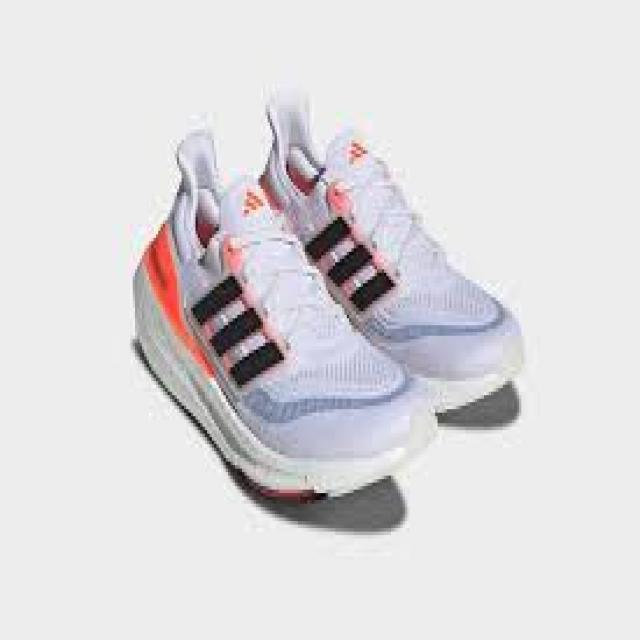shoe: (129, 85, 510, 511), (134, 128, 438, 516)
